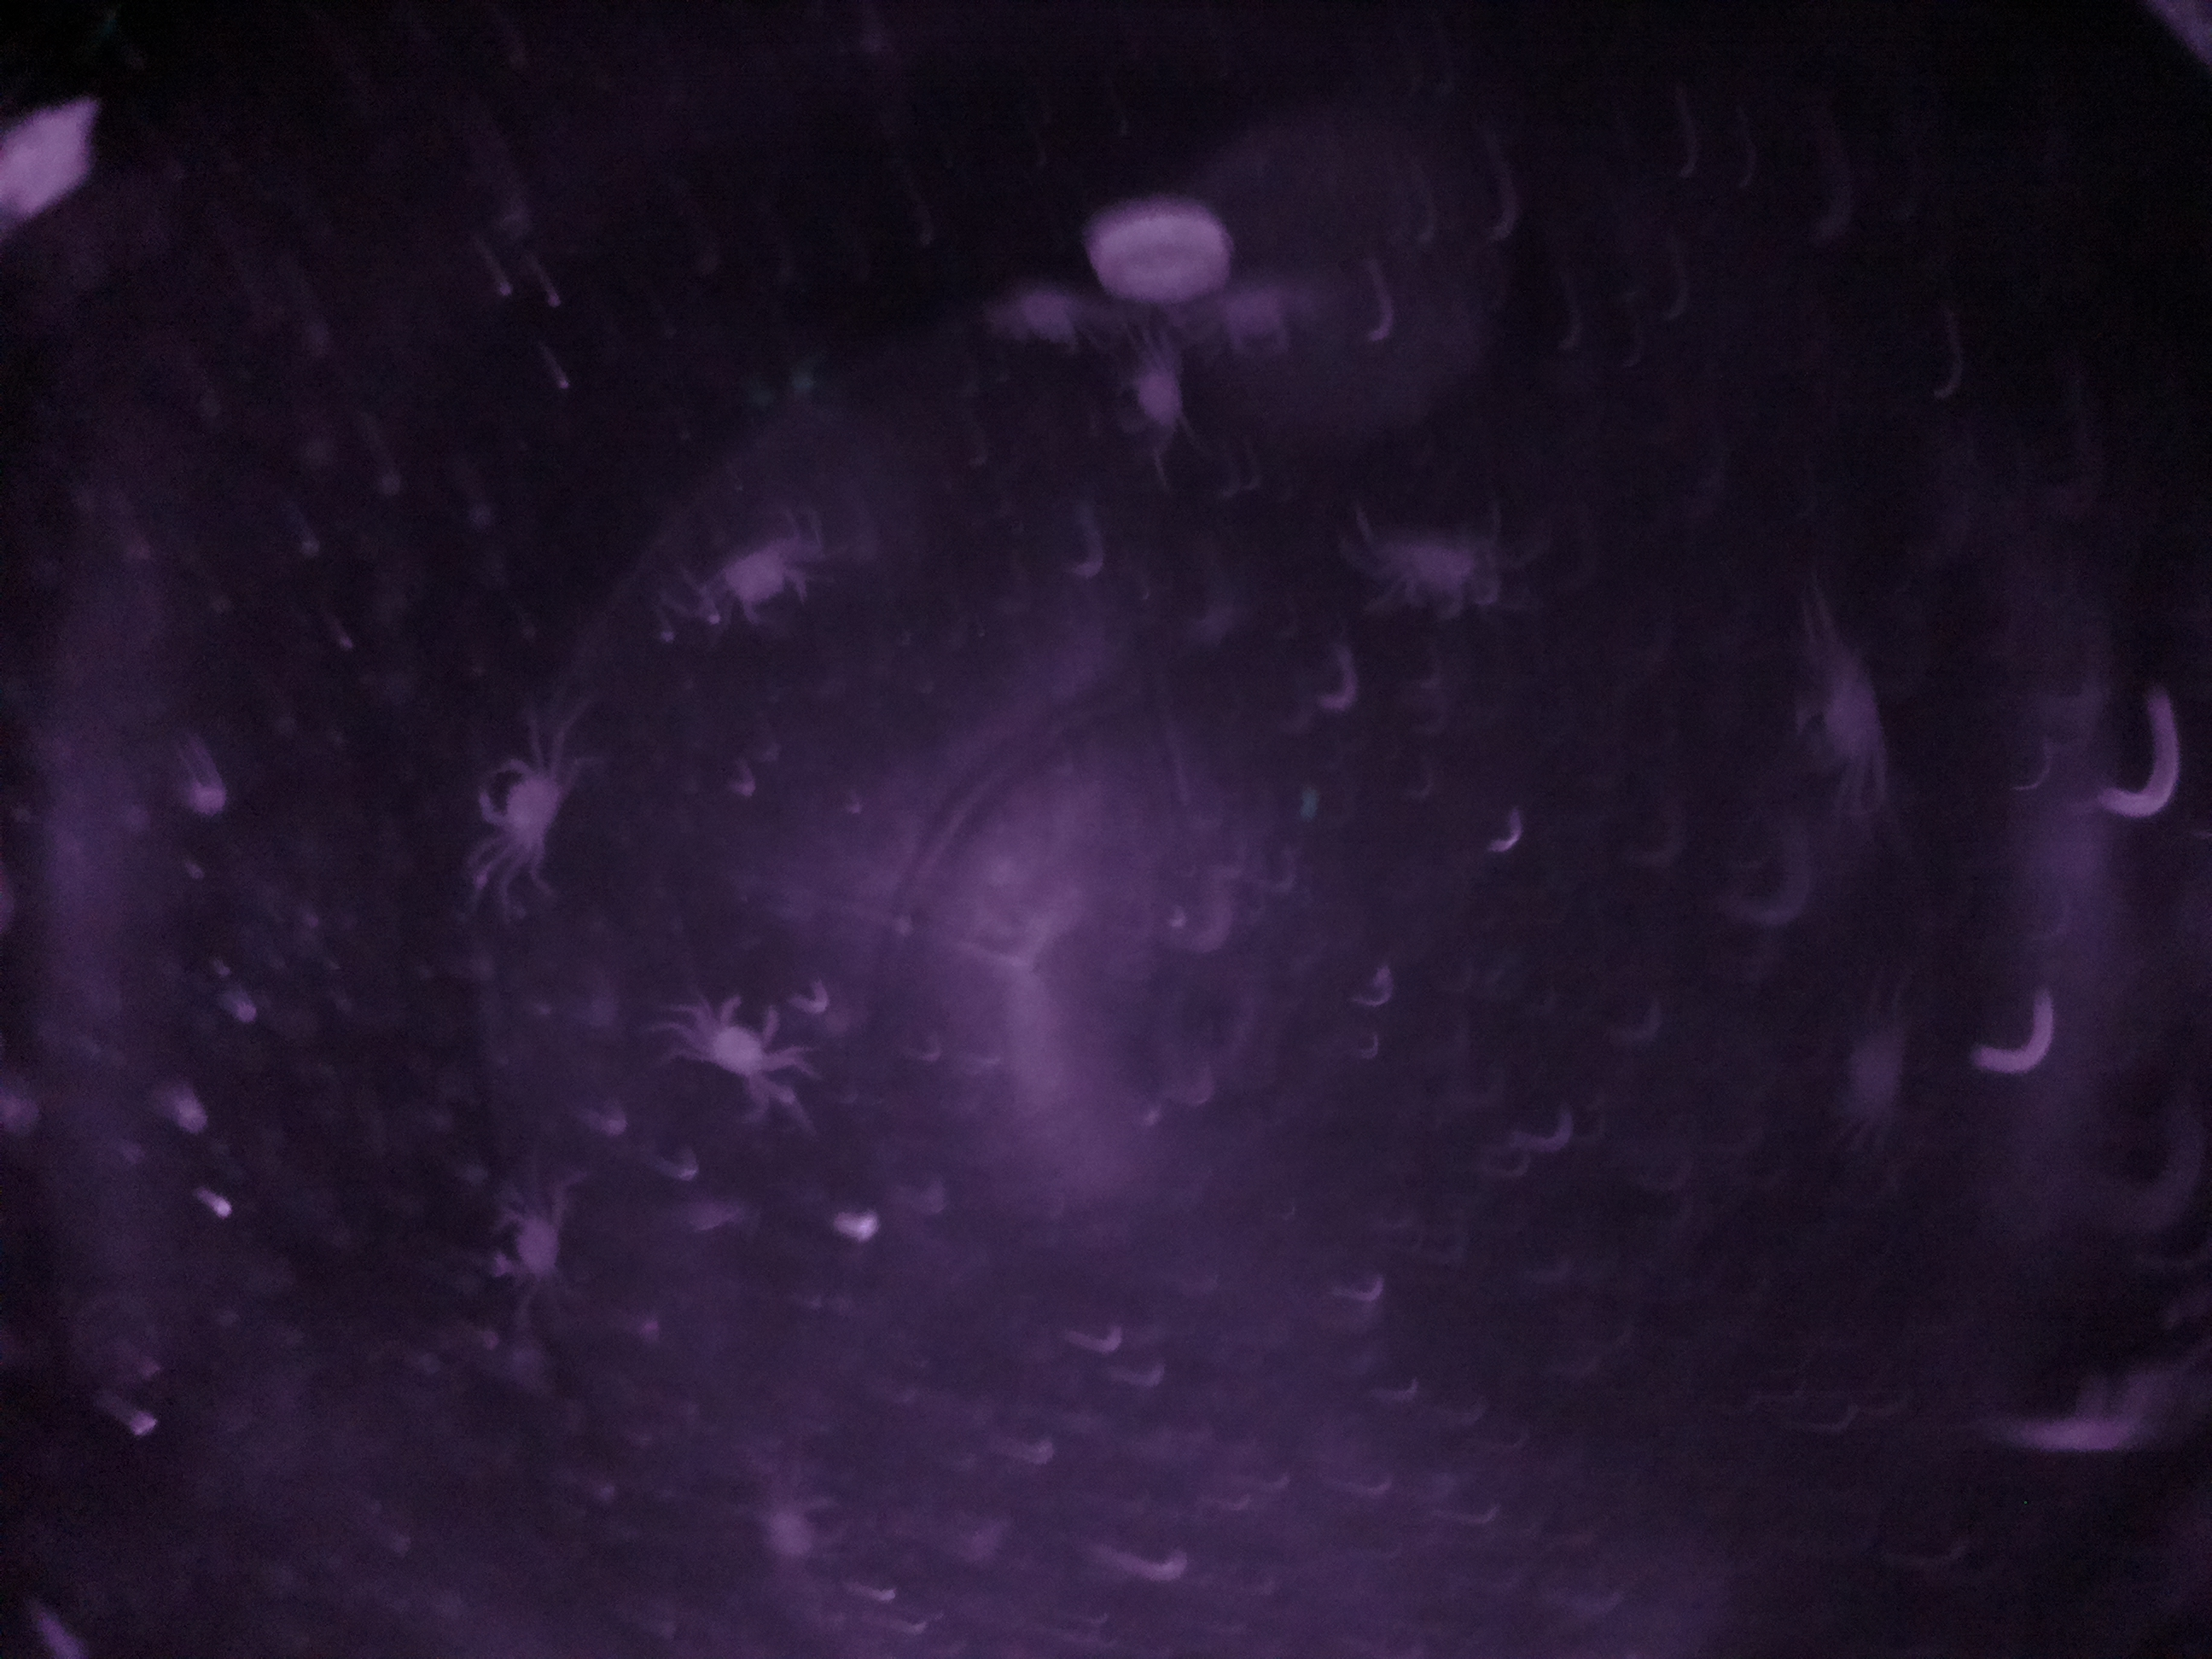Crab: (462, 739, 589, 866), (691, 972, 803, 1096)
